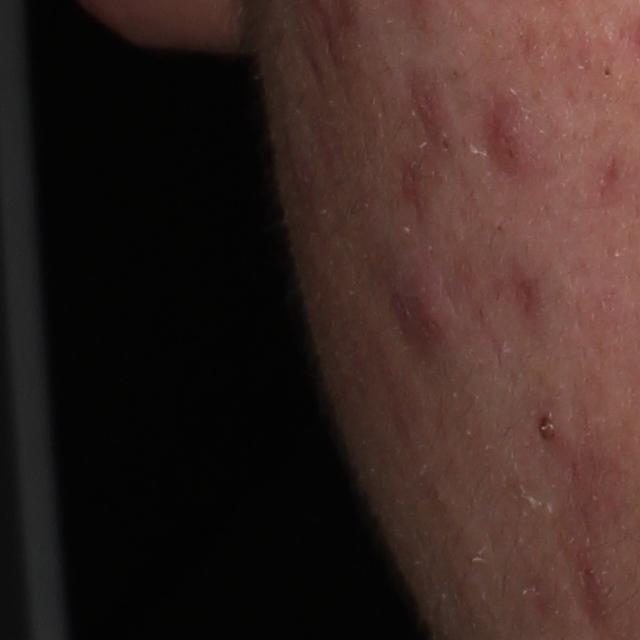comedo: (531, 414, 564, 446), (434, 134, 456, 155), (594, 64, 617, 84)
papule: (393, 276, 450, 355), (487, 115, 537, 174)
